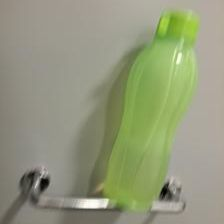bottle: (97, 7, 202, 212)
